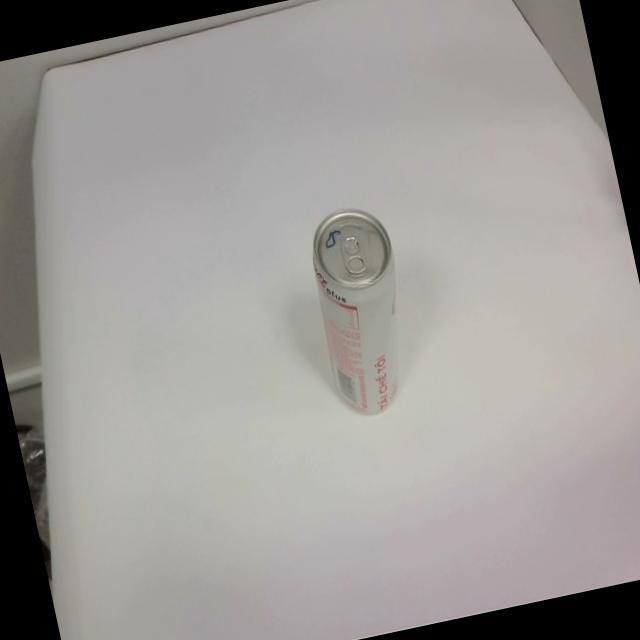debris: (298, 200, 426, 422)
